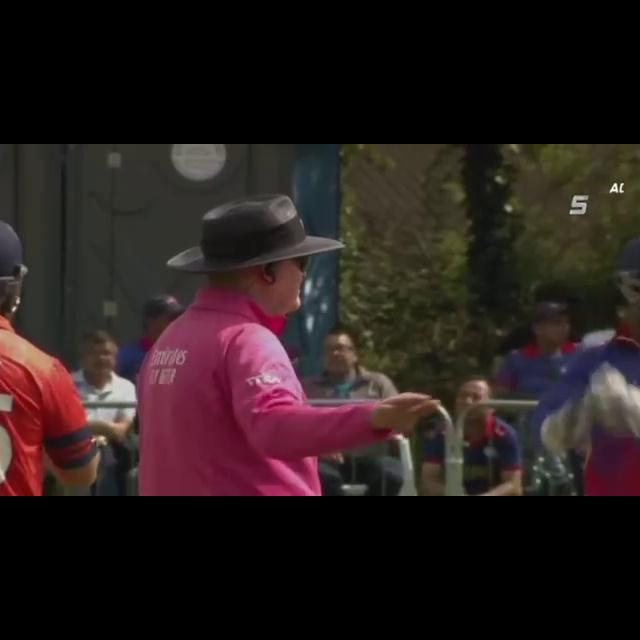umpire: (135, 174, 462, 496)
